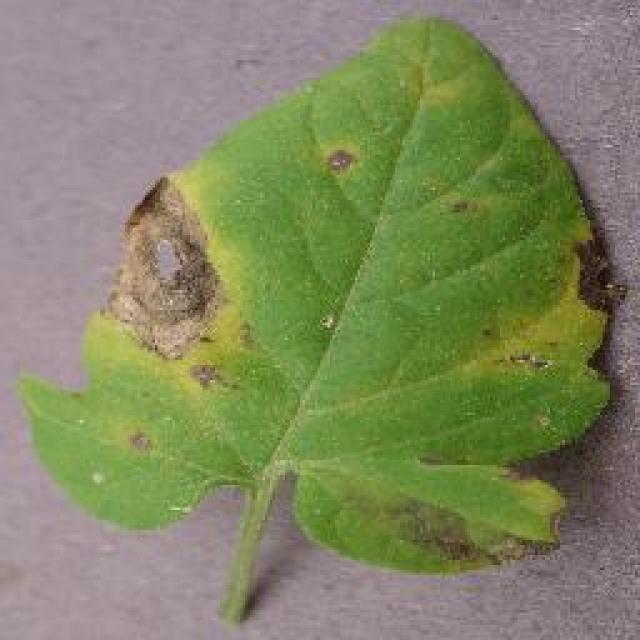Tom_Septoria_leaf_spot: (98, 177, 258, 395), (492, 240, 626, 391), (310, 129, 362, 190)
